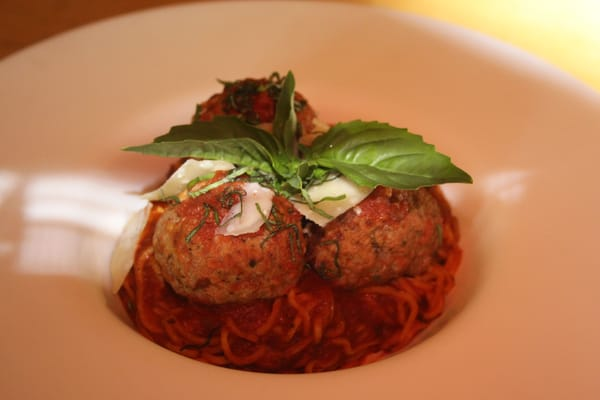soup: (107, 71, 471, 377)
